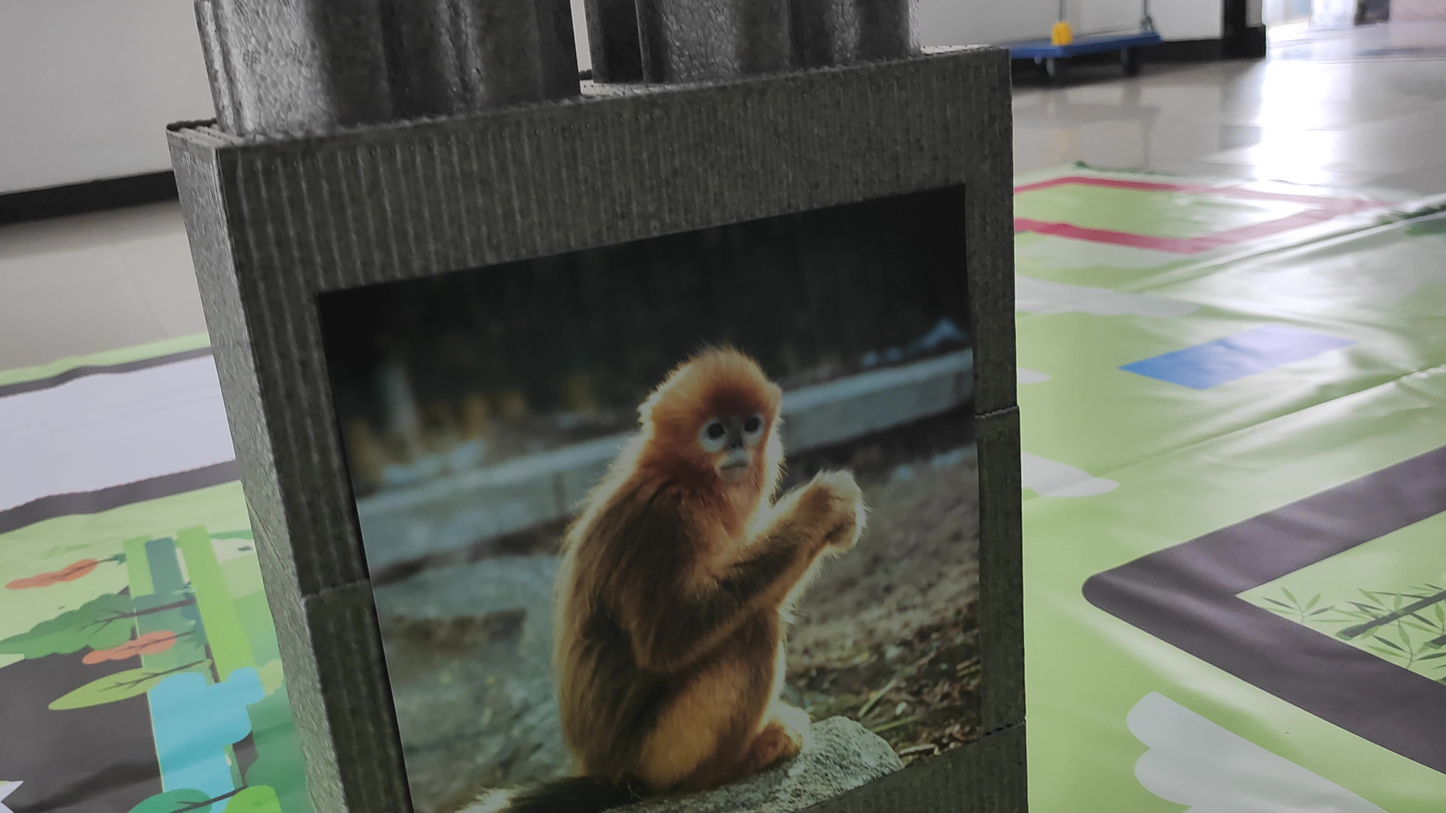monkey: (488, 315, 907, 791)
